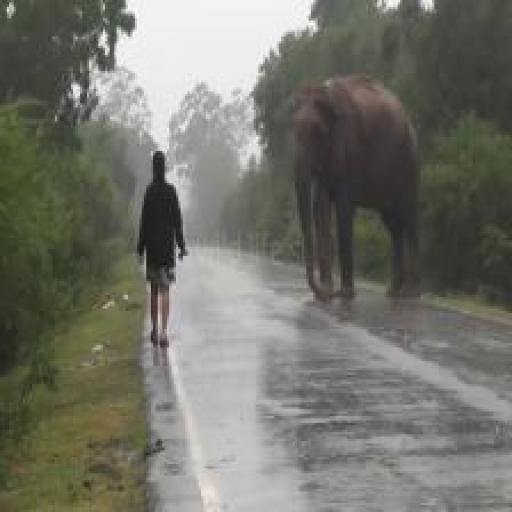Elephant: (281, 57, 434, 320)
